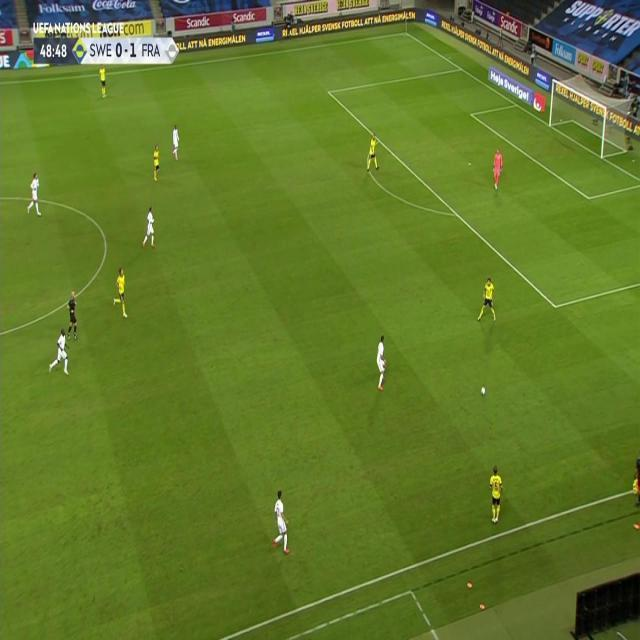ball: (481, 384, 488, 396)
goalkeeper: (491, 146, 504, 192)
player: (271, 489, 292, 556), (48, 325, 71, 377), (476, 275, 498, 324), (487, 463, 504, 526), (111, 267, 130, 320), (374, 334, 388, 391), (26, 171, 43, 217), (141, 204, 156, 249), (365, 134, 380, 172), (171, 123, 181, 161), (152, 143, 161, 182), (98, 64, 108, 98)
referee: (65, 289, 79, 341), (631, 452, 640, 502)
